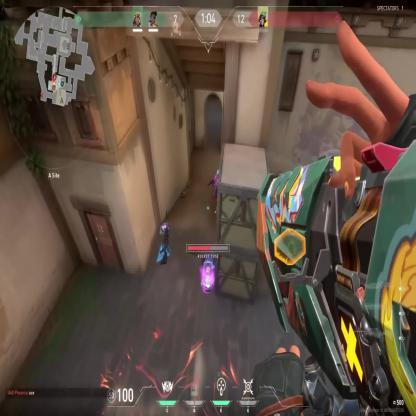enemy: (211, 166, 223, 210)
enemy_head: (216, 169, 220, 178)
